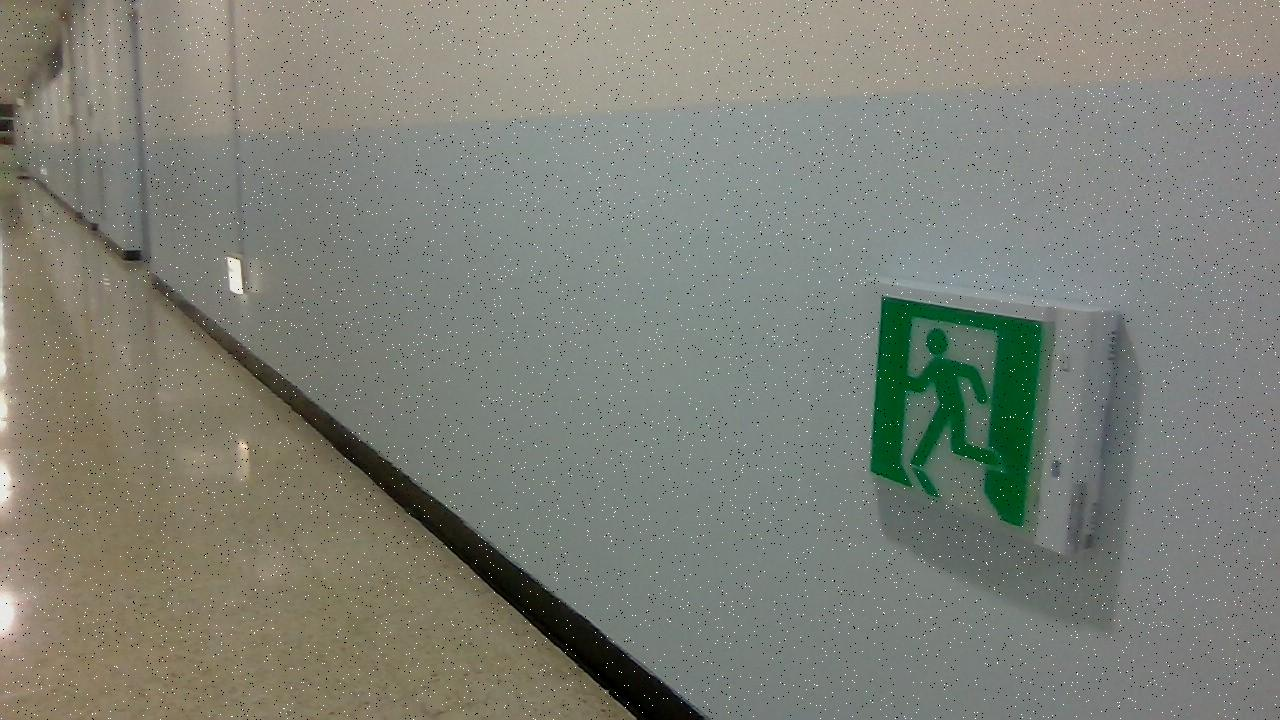emergency_exit: (868, 286, 1138, 557), (869, 293, 1055, 528)
